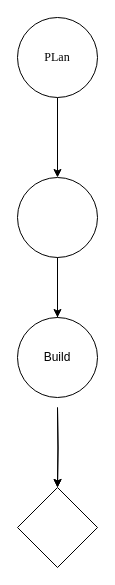
Image size: 115x585. Some labels were removed from this diagram. Here are the shapes that lost their labels. From the top down, the centre of each, then its label:
At (57,217): "Code".
At (57,527): "Run".
